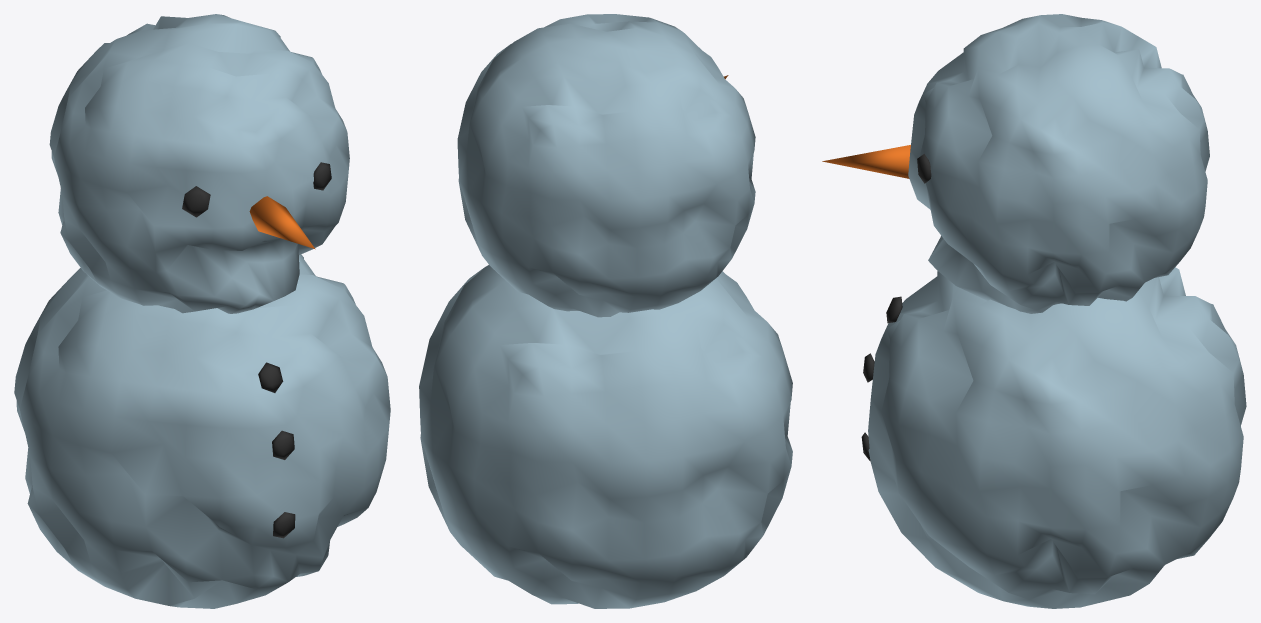
File: SnowManProp.fbx
The picture shows the model from 3 angles, left to right: view 1: azimuth 30°, elevation 25°; view 2: azimuth 150°, elevation 25°; view 3: azimuth 270°, elevation 25°; orthographic projection.
Parts seen in each view (by area): view 1: Snowman; view 2: Snowman; view 3: Snowman.
Boxes of the visible parts, x1=… form: Snowman: x1=14, y1=14, x2=390, y2=608; Snowman: x1=419, y1=14, x2=792, y2=608; Snowman: x1=822, y1=14, x2=1246, y2=608.
Size of the model in its own units: 1.68 by 2.69 by 1.87.
